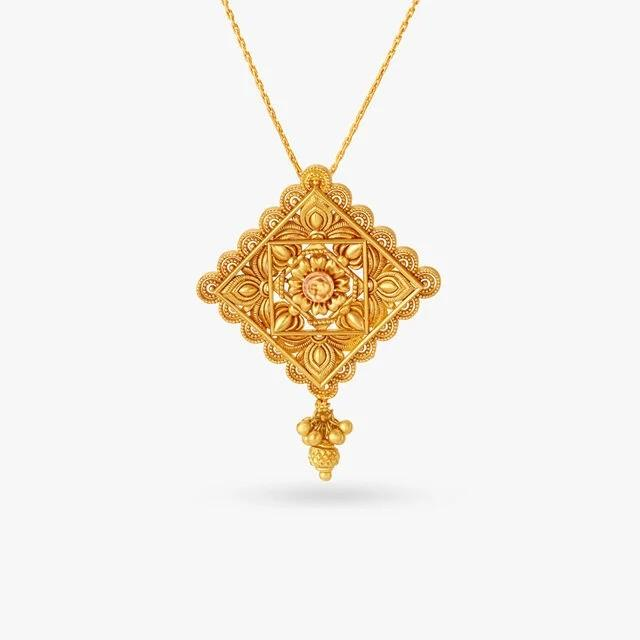missing gem: (304, 275, 331, 300)
